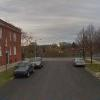Car: (8, 53, 44, 78)
